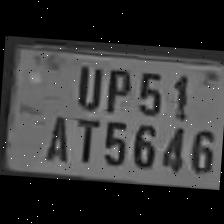1: (164, 67, 194, 120)
4: (155, 119, 186, 174)
5: (128, 64, 165, 114), (97, 114, 129, 166)
6: (126, 114, 158, 168), (185, 122, 218, 174)
A: (39, 107, 72, 162)
P: (99, 60, 132, 114)
T: (68, 112, 100, 162)
U: (70, 57, 104, 109)
